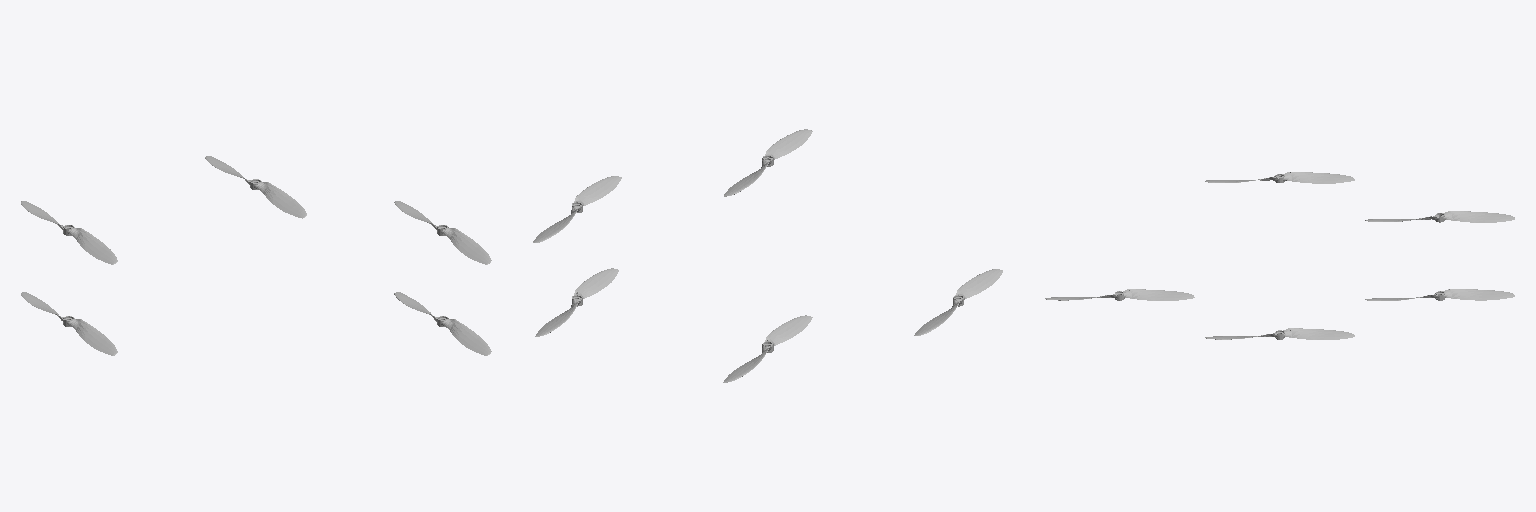
robot.urdf — hexa_urdf:
<?xml version="1.0" encoding="utf-8"?>
<!-- This URDF was automatically created by SolidWorks to URDF Exporter! Originally created by Stephen Brawner ([email redacted]) 
     Commit Version: 1.6.0-4-g7f85cfe  Build Version: 1.6.7995.38578
     For more information, please see http://wiki.ros.org/sw_urdf_exporter -->
<robot
  name="hexa_urdf">
  <link
    name="base_link">
    <inertial>
      <origin
        xyz="0.00102621146286391 -0.00508584464388768 -0.0188046052722118"
        rpy="0 0 0" />
      <mass
        value="1.67990502595448" />
      <inertia
        ixx="0.00257193129712044"
        ixy="3.55430051787009E-08"
        ixz="1.6706892369537E-09"
        iyy="0.0025903031252896"
        iyz="6.41265575811204E-08"
        izz="0.00467566709892528" />
    </inertial>
    <visual>
      <origin
        xyz="0 0 0"
        rpy="0 0 0" />
      <geometry>
        <mesh
          filename="package://hexa_urdf/meshes/base_link.STL" />
      </geometry>
      <material
        name="">
        <color
          rgba="255 114 0 1" />
      </material>
    </visual>
    <collision>
      <origin
        xyz="0 0 0"
        rpy="0 0 0" />
      <geometry>
        <mesh
          filename="package://hexa_urdf/meshes/base_link.STL" />
      </geometry>
    </collision>
  </link>
  <link
    name="Propeller1">
    <inertial>
      <origin
        xyz="-3.26474692807777E-07 0.00439680434131268 -1.53808227543184E-08"
        rpy="0 0 0" />
      <mass
        value="0.00751257355648407" />
      <inertia
        ixx="1.74304413652826E-05"
        ixy="1.49737996578977E-11"
        ixz="-1.55537949568054E-06"
        iyy="1.77025863093851E-05"
        iyz="4.04498554041808E-11"
        izz="3.33965232184549E-07" />
    </inertial>
    <visual>
      <origin
        xyz="0 0 0"
        rpy="0 0 0" />
      <geometry>
        <mesh
          filename="package://hexa_urdf/meshes/Propeller1.STL" />
      </geometry>
      <material
        name="">
        <color
          rgba="0.752941176470588 0.752941176470588 0.752941176470588 1" />
      </material>
    </visual>
    <collision>
      <origin
        xyz="0 0 0"
        rpy="0 0 0" />
      <geometry>
        <mesh
          filename="package://hexa_urdf/meshes/Propeller1.STL" />
      </geometry>
    </collision>
  </link>
  <joint
    name="Propeller1_j"
    type="continuous">
    <origin
      xyz="-0.12757247787632 -0.220931255442771 0.0325079324936686"
      rpy="1.5707963267949 0 0" />
    <parent
      link="base_link" />
    <child
      link="Propeller1" />
    <axis
      xyz="0 1 0" />
  </joint>
  <link
    name="Propeller2">
    <inertial>
      <origin
        xyz="-3.28623572909414E-07 0.00439679150925019 -6.51437577161518E-07"
        rpy="0 0 0" />
      <mass
        value="0.00751263614529959" />
      <inertia
        ixx="1.74309820571611E-05"
        ixy="1.49424727304143E-11"
        ixz="-1.55538106683582E-06"
        iyy="1.77031266704762E-05"
        iyz="2.91143150409736E-11"
        izz="3.33965410387138E-07" />
    </inertial>
    <visual>
      <origin
        xyz="0 0 0"
        rpy="0 0 0" />
      <geometry>
        <mesh
          filename="package://hexa_urdf/meshes/Propeller2.STL" />
      </geometry>
      <material
        name="">
        <color
          rgba="0.752941176470588 0.752941176470588 0.752941176470588 1" />
      </material>
    </visual>
    <collision>
      <origin
        xyz="0 0 0"
        rpy="0 0 0" />
      <geometry>
        <mesh
          filename="package://hexa_urdf/meshes/Propeller2.STL" />
      </geometry>
    </collision>
  </link>
  <joint
    name="Propeller2_j"
    type="continuous">
    <origin
      xyz="-0.255118318641588 1.5378943236248E-05 0.0325079324936686"
      rpy="1.5707963267949 0 0" />
    <parent
      link="base_link" />
    <child
      link="Propeller2" />
    <axis
      xyz="0 1 0" />
  </joint>
  <link
    name="Propeller3">
    <inertial>
      <origin
        xyz="-3.28267353771894E-07 0.00439679224022817 -6.12670876226629E-07"
        rpy="0 0 0" />
      <mass
        value="0.00751263238021885" />
      <inertia
        ixx="1.74309591882528E-05"
        ixy="1.49387152819401E-11"
        ixz="-1.55538092886439E-06"
        iyy="1.77031038068463E-05"
        iyz="2.9487135387314E-11"
        izz="3.33965407479089E-07" />
    </inertial>
    <visual>
      <origin
        xyz="0 0 0"
        rpy="0 0 0" />
      <geometry>
        <mesh
          filename="package://hexa_urdf/meshes/Propeller3.STL" />
      </geometry>
      <material
        name="">
        <color
          rgba="0.752941176470588 0.752941176470588 0.752941176470588 1" />
      </material>
    </visual>
    <collision>
      <origin
        xyz="0 0 0"
        rpy="0 0 0" />
      <geometry>
        <mesh
          filename="package://hexa_urdf/meshes/Propeller3.STL" />
      </geometry>
    </collision>
  </link>
  <joint
    name="Propeller3_j"
    type="continuous">
    <origin
      xyz="-0.127545840765268 0.220946634386007 0.0325079324936686"
      rpy="1.5707963267949 0 0" />
    <parent
      link="base_link" />
    <child
      link="Propeller3" />
    <axis
      xyz="0 1 0" />
  </joint>
  <link
    name="Propeller4">
    <inertial>
      <origin
        xyz="-3.2850210893165E-07 0.0043968169140178 -6.51248902777679E-07"
        rpy="0 0 0" />
      <mass
        value="0.00751252204498336" />
      <inertia
        ixx="1.7429921886232E-05"
        ixy="1.49383513642947E-11"
        ixz="-1.55537872725387E-06"
        iyy="1.77020670481701E-05"
        iyz="2.9107684248315E-11"
        izz="3.33965010652423E-07" />
    </inertial>
    <visual>
      <origin
        xyz="0 0 0"
        rpy="0 0 0" />
      <geometry>
        <mesh
          filename="package://hexa_urdf/meshes/Propeller4.STL" />
      </geometry>
      <material
        name="">
        <color
          rgba="0.752941176470588 0.752941176470588 0.752941176470588 1" />
      </material>
    </visual>
    <collision>
      <origin
        xyz="0 0 0"
        rpy="0 0 0" />
      <geometry>
        <mesh
          filename="package://hexa_urdf/meshes/Propeller4.STL" />
      </geometry>
    </collision>
  </link>
  <joint
    name="Propeller4_j"
    type="continuous">
    <origin
      xyz="0.127580369515376 0.220925411722318 0.0325079324936686"
      rpy="1.5707963267949 0 0.0353318344323685" />
    <parent
      link="base_link" />
    <child
      link="Propeller4" />
    <axis
      xyz="0 1 0" />
  </joint>
  <link
    name="Propeller5">
    <inertial>
      <origin
        xyz="-3.28623527057204E-07 0.0043967915092662 -6.51437324510765E-07"
        rpy="0 0 0" />
      <mass
        value="0.00751263614541705" />
      <inertia
        ixx="1.74309820571806E-05"
        ixy="1.49424749635846E-11"
        ixz="-1.55538106684497E-06"
        iyy="1.77031266704956E-05"
        iyz="2.91143094346732E-11"
        izz="3.33965410382781E-07" />
    </inertial>
    <visual>
      <origin
        xyz="0 0 0"
        rpy="0 0 0" />
      <geometry>
        <mesh
          filename="package://hexa_urdf/meshes/Propeller5.STL" />
      </geometry>
      <material
        name="">
        <color
          rgba="0.752941176470588 0.752941176470588 0.752941176470588 1" />
      </material>
    </visual>
    <collision>
      <origin
        xyz="0 0 0"
        rpy="0 0 0" />
      <geometry>
        <mesh
          filename="package://hexa_urdf/meshes/Propeller5.STL" />
      </geometry>
    </collision>
  </link>
  <joint
    name="Propeller5_j"
    type="continuous">
    <origin
      xyz="0.255118318641588 -1.53789432341404E-05 0.0325079324936686"
      rpy="1.5707963267949 0 0" />
    <parent
      link="base_link" />
    <child
      link="Propeller5" />
    <axis
      xyz="0 1 0" />
  </joint>
  <link
    name="Propeller6">
    <inertial>
      <origin
        xyz="-3.28285385514659E-07 0.00439679222430978 -6.12759626705817E-07"
        rpy="0 0 0" />
      <mass
        value="0.007512632349858" />
      <inertia
        ixx="1.74309591907559E-05"
        ixy="1.49392924115752E-11"
        ixz="-1.55538092682559E-06"
        iyy="1.77031038090761E-05"
        iyz="2.94877500956035E-11"
        izz="3.33965406357289E-07" />
    </inertial>
    <visual>
      <origin
        xyz="0 0 0"
        rpy="0 0 0" />
      <geometry>
        <mesh
          filename="package://hexa_urdf/meshes/Propeller6.STL" />
      </geometry>
      <material
        name="">
        <color
          rgba="0.752941176470588 0.752941176470588 0.752941176470588 1" />
      </material>
    </visual>
    <collision>
      <origin
        xyz="0 0 0"
        rpy="0 0 0" />
      <geometry>
        <mesh
          filename="package://hexa_urdf/meshes/Propeller6.STL" />
      </geometry>
    </collision>
  </link>
  <joint
    name="Propeller6_j"
    type="continuous">
    <origin
      xyz="0.12755 -0.22095 0.032508"
      rpy="1.5708 0 0" />
    <parent
      link="base_link" />
    <child
      link="Propeller6" />
    <axis
      xyz="0 1 0" />
  </joint>
  
  <!-- 
    <link
    name="Spur_gear">
    <inertial>
      <origin
        xyz="-0.00249999999999999 -1.61590812403835E-17 1.17671786182075E-19"
        rpy="0 0 0" />
      <mass
        value="0.00162138867057304" />
      <inertia
        ixx="2.49625856019169E-07"
        ixy="1.00819144939275E-23"
        ixz="5.40764150529042E-25"
        iyy="1.28190821073278E-07"
        iyz="-8.77822026835157E-23"
        izz="1.28190821073277E-07" />
    </inertial>
    <visual>
      <origin
        xyz="0 0 0"
        rpy="0 0 0" />
      <geometry>
        <mesh
          filename="package://hexa_urdf/meshes/Spur_gear.STL" />
      </geometry>
      <material
        name="">
        <color
          rgba="0.776470588235294 0.756862745098039 0.737254901960784 1" />
      </material>
    </visual>
    <collision>
      <origin
        xyz="0 0 0"
        rpy="0 0 0" />
      <geometry>
        <mesh
          filename="package://hexa_urdf/meshes/Spur_gear.STL" />
      </geometry>
    </collision>
  </link>
  <joint
    name="Spur_gear_j"
    type="continuous">
    <origin
      xyz="0 0 -0.077"
      rpy="1.5708 -1.5708 0" />
    <parent
      link="base_link" />
    <child
      link="Spur_gear" />
    <axis
      xyz="1 0 0" />
  </joint>
  <link
    name="Spur_rack1">
    <inertial>
      <origin
        xyz="-0.0636831057761312 0.0228058904998909 -0.0335118083435153"
        rpy="0 0 0" />
      <mass
        value="0.0397845645111195" />
      <inertia
        ixx="5.04475177999414E-05"
        ixy="1.64683468841985E-06"
        ixz="-2.94988196511606E-06"
        iyy="2.23831113476059E-05"
        iyz="1.51780907101343E-06"
        izz="3.67617732004021E-05" />
    </inertial>
    <visual>
      <origin
        xyz="0 0 0"
        rpy="0 0 0" />
      <geometry>
        <mesh
          filename="package://hexa_urdf/meshes/Spur_rack1.STL" />
      </geometry>
      <material
        name="">
        <color
          rgba="0.250980392156863 0.250980392156863 0.250980392156863 1" />
      </material>
    </visual>
    <collision>
      <origin
        xyz="0 0 0"
        rpy="0 0 0" />
      <geometry>
        <mesh
          filename="package://hexa_urdf/meshes/Spur_rack1.STL" />
      </geometry>
    </collision>
  </link>
  <joint
    name="Spur_rack1_j"
    type="prismatic">
    <origin
      xyz="-0.00600000000000002 0 0.024"
      rpy="-1.5707963267949 0 -1.5707963267949" />
    <parent
      link="Spur_gear" />
    <child
      link="Spur_rack1" />
    <axis
      xyz="1 0 0" />
    <limit
      lower="0"
      upper="0"
      effort="0"
      velocity="0" />
  </joint>
  <link
    name="Spur_rack2">
    <inertial>
      <origin
        xyz="-0.0636831057761313 0.0228058904998909 -0.0335118083435153"
        rpy="0 0 0" />
      <mass
        value="0.0397845645111194" />
      <inertia
        ixx="5.04475177999414E-05"
        ixy="1.64683468841988E-06"
        ixz="-2.94988196511607E-06"
        iyy="2.23831113476058E-05"
        iyz="1.51780907101344E-06"
        izz="3.6761773200402E-05" />
    </inertial>
    <visual>
      <origin
        xyz="0 0 0"
        rpy="0 0 0" />
      <geometry>
        <mesh
          filename="package://hexa_urdf/meshes/Spur_rack2.STL" />
      </geometry>
      <material
        name="">
        <color
          rgba="0.250980392156863 0.250980392156863 0.250980392156863 1" />
      </material>
    </visual>
    <collision>
      <origin
        xyz="0 0 0"
        rpy="0 0 0" />
      <geometry>
        <mesh
          filename="package://hexa_urdf/meshes/Spur_rack2.STL" />
      </geometry>
    </collision>
  </link>
  <joint
    name="Spur_rack2_j"
    type="prismatic">
    <origin
      xyz="-0.00600000000000001 0 -0.024"
      rpy="1.5707963267949 0 1.5707963267949" />
    <parent
      link="Spur_gear" />
    <child
      link="Spur_rack2" />
    <axis
      xyz="1 0 0" />
    <limit
      lower="0"
      upper="0"
      effort="0"
      velocity="0" />
  </joint>
-->
</robot>

--- What the picture shows (computed from the rendered views, not written in the file) ---
The picture shows the robot from 3 angles, left to right: view 1: azimuth 30°, elevation 25°; view 2: azimuth 150°, elevation 25°; view 3: azimuth 270°, elevation 25°; orthographic projection.
Model hexa_urdf with 7 links and 6 joints (6 continuous), rooted at base_link, posed every joint at zero.
Visible links, largest first — view 1: Propeller4, Propeller6, Propeller3, Propeller2, Propeller5; view 2: Propeller6, Propeller3, Propeller5, Propeller2, Propeller4; view 3: Propeller5, Propeller6, Propeller3, Propeller2, Propeller4.
Link boxes in pixels (x1,y1,x2,y2): Propeller4: (205, 156, 306, 218); Propeller6: (394, 292, 491, 355); Propeller3: (21, 201, 117, 264); Propeller2: (21, 292, 117, 355); Propeller5: (394, 201, 491, 264); Propeller6: (724, 129, 812, 196); Propeller3: (723, 315, 812, 382); Propeller5: (533, 176, 621, 242); Propeller2: (914, 269, 1002, 335); Propeller4: (535, 268, 618, 336); Propeller5: (1205, 328, 1354, 339); Propeller6: (1045, 289, 1194, 300); Propeller3: (1365, 211, 1514, 222); Propeller2: (1205, 172, 1354, 183); Propeller4: (1365, 289, 1514, 300).
Bounding box of the posed robot: 0.5422 × 0.6493 × 0.011 m (x, y, z).
5 mesh visuals loaded from 7 distinct referenced files (5 binary STL); not drawn: 2 (reference not matched to a file when rendering).
